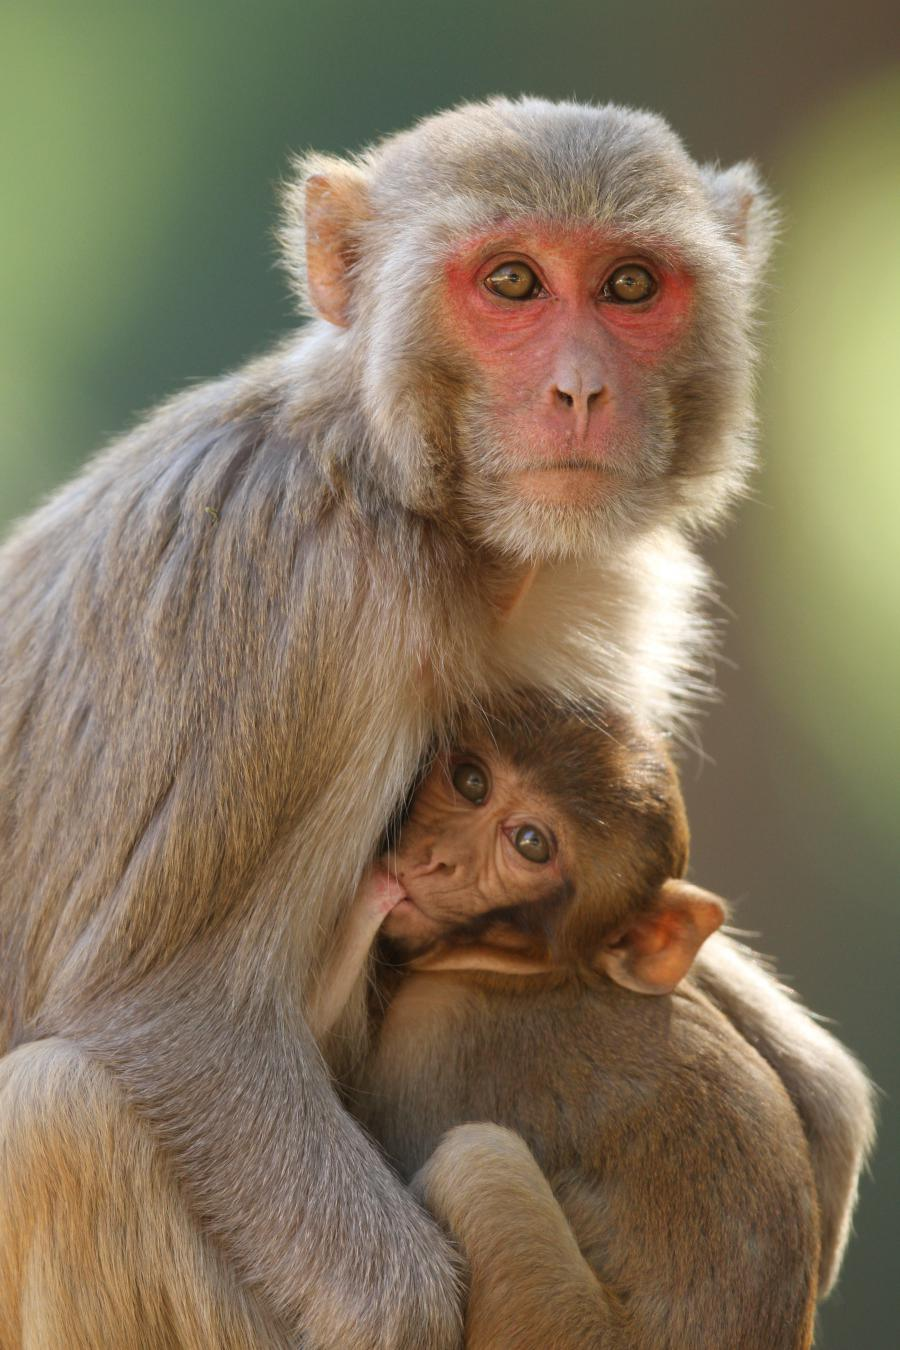monkey: (10, 94, 864, 1350), (341, 679, 858, 1350)
